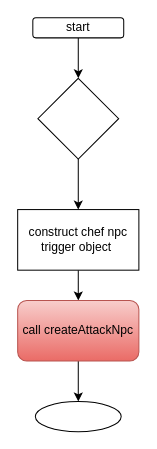
Image size: 157x449. Some labels were removed from this diagram. Each missing label, with the centre of its shape:
end: (77,416)
IF truck locked target and no attack npc: (78,118)
